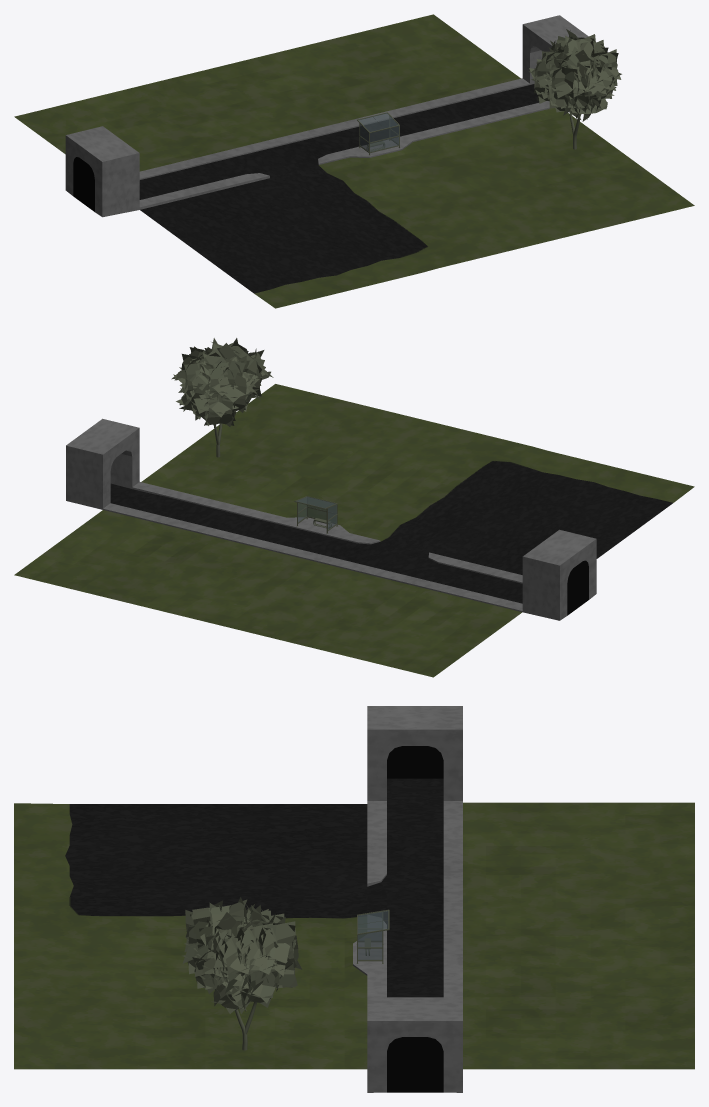
Rendered from Outside Map and more.fbx.
3 views of the same model, one above another, from view 1: azimuth 30°, elevation 25°; view 2: azimuth 150°, elevation 25°; view 3: azimuth 270°, elevation 25° (orthographic). The views are drawn at different scales.
Parts seen in each view (by area): view 1: Map, IMG_5636.002, Cube; view 2: Map, IMG_5636.002, Cube; view 3: Map, IMG_5636.002, Cube.
Boxes of the visible parts, bbox=[...] form: Map: bbox=[14, 14, 694, 308]; IMG_5636.002: bbox=[528, 29, 621, 121]; Cube: bbox=[357, 112, 400, 155]; Map: bbox=[14, 384, 694, 677]; IMG_5636.002: bbox=[171, 338, 273, 426]; Cube: bbox=[294, 496, 337, 533]; Map: bbox=[14, 706, 694, 1092]; IMG_5636.002: bbox=[182, 897, 302, 1014]; Cube: bbox=[356, 909, 389, 963].
Bounding box in the file's own units: 29835 × 6679 × 27346.
